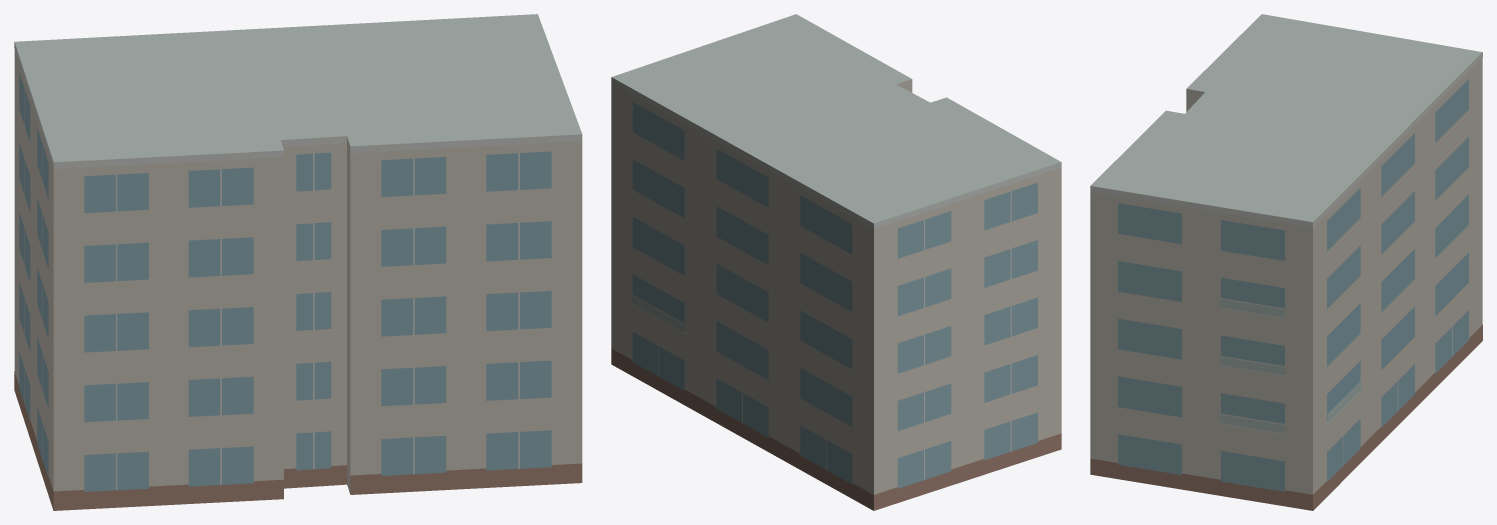
File: survey-upis-32902099.glb
3 renders of one model, left to right at view 1: azimuth 30°, elevation 25°; view 2: azimuth 150°, elevation 25°; view 3: azimuth 270°, elevation 25°, orthographic. The views are drawn at different scales.
Parts seen in each view (by area): view 1: survey-upis-32902099.tmp; view 2: survey-upis-32902099.tmp; view 3: survey-upis-32902099.tmp.
Boxes of the visible parts, x1,y1,x2,y2 form: survey-upis-32902099.tmp: [14, 14, 582, 510]; survey-upis-32902099.tmp: [611, 14, 1061, 510]; survey-upis-32902099.tmp: [1090, 14, 1482, 510].
Size of the model in its own units: 19.26 by 12.45 by 15.35.
